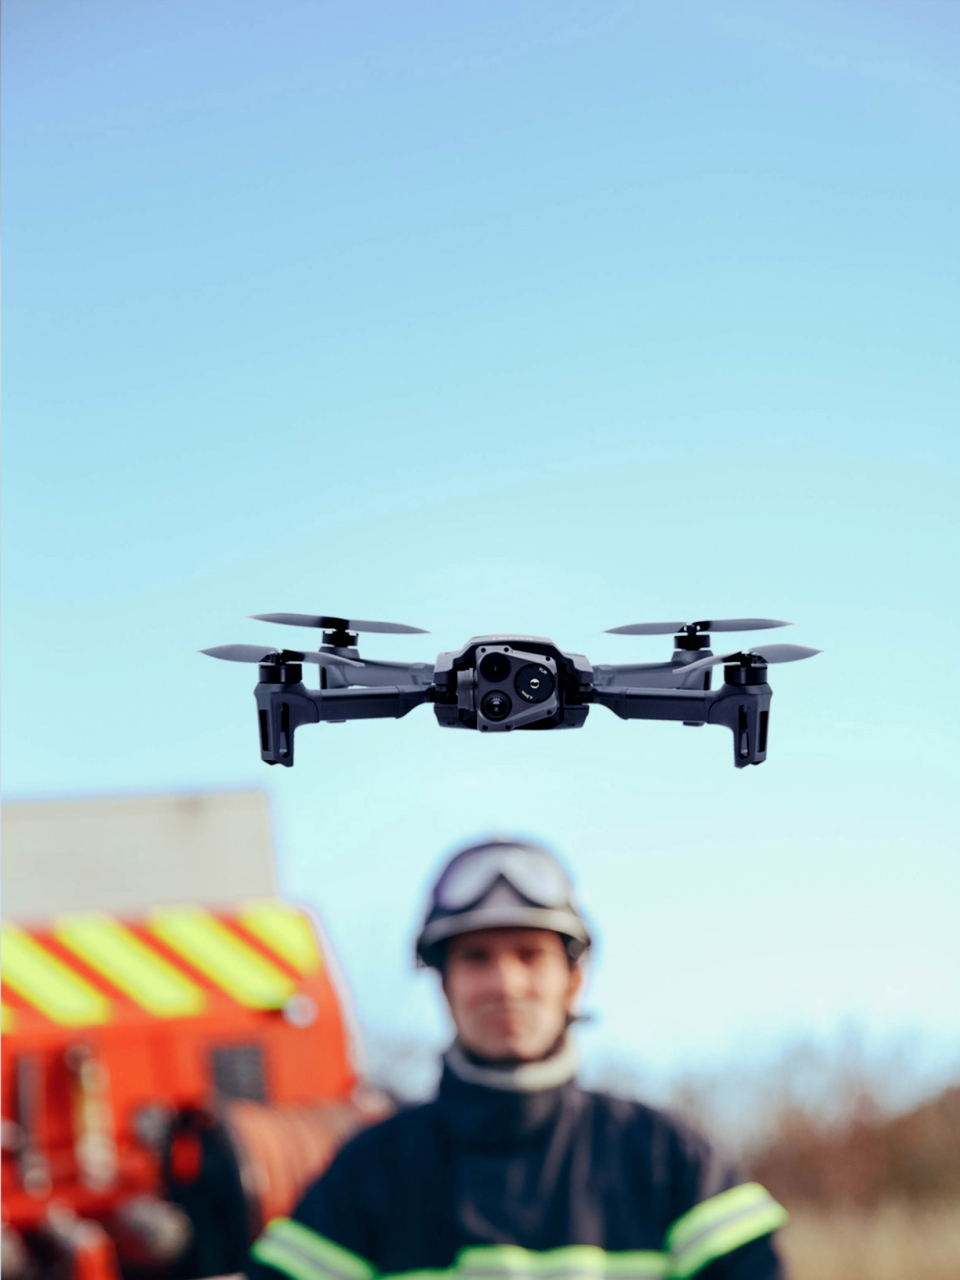drone: (198, 606, 824, 771)
